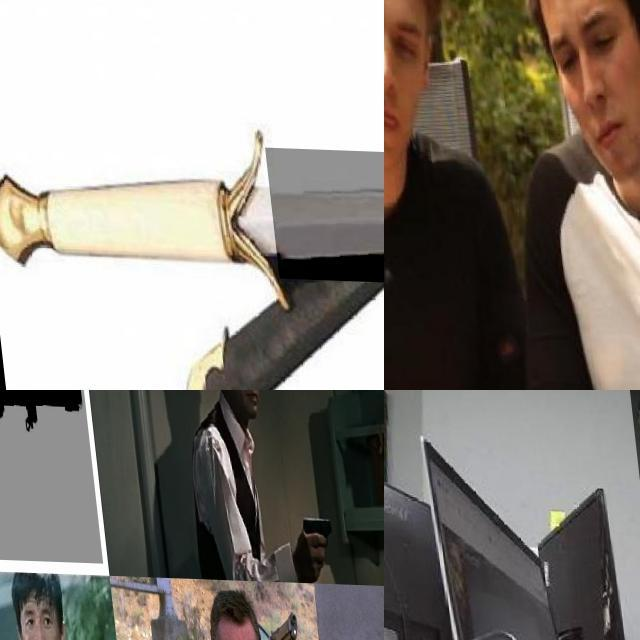-: (261, 145, 384, 286), (384, 212, 430, 390), (625, 390, 640, 550)
gun-knife-thesis - v11 Yolov5 augmented: (0, 390, 169, 561), (244, 604, 304, 640), (292, 507, 330, 559)
